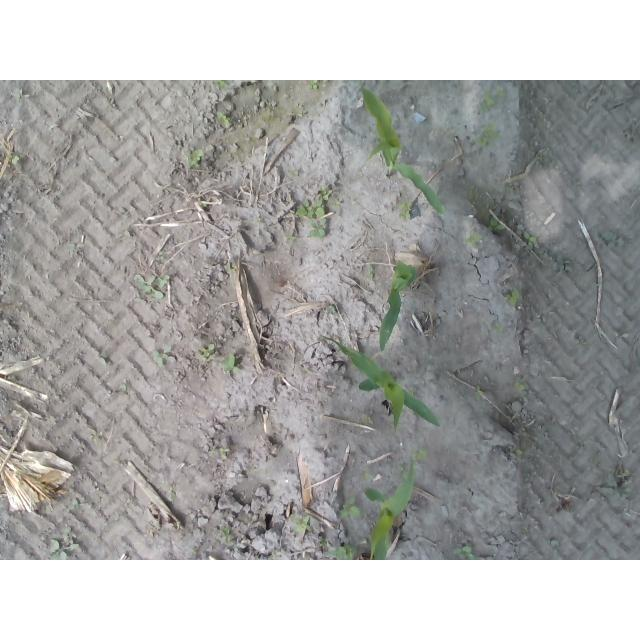Maize: (319, 335, 441, 433), (360, 85, 448, 216), (364, 452, 418, 561), (378, 263, 418, 354)
Weeds: (295, 200, 329, 237), (132, 272, 169, 300), (603, 470, 634, 501), (47, 537, 81, 560), (471, 121, 501, 147), (342, 497, 363, 519), (335, 542, 358, 560), (477, 91, 495, 113), (453, 543, 476, 560), (607, 228, 626, 248), (315, 184, 333, 204), (398, 200, 415, 220), (186, 149, 204, 167), (154, 349, 171, 367), (222, 354, 239, 372), (218, 526, 235, 544), (487, 216, 506, 232), (504, 289, 521, 306), (200, 343, 215, 362), (210, 447, 231, 460), (466, 232, 483, 248), (522, 232, 535, 249), (295, 514, 309, 529), (415, 447, 430, 460), (218, 112, 231, 124), (288, 167, 301, 177), (70, 498, 81, 508), (306, 81, 318, 90), (515, 382, 525, 392), (12, 153, 21, 164), (214, 81, 226, 88)
